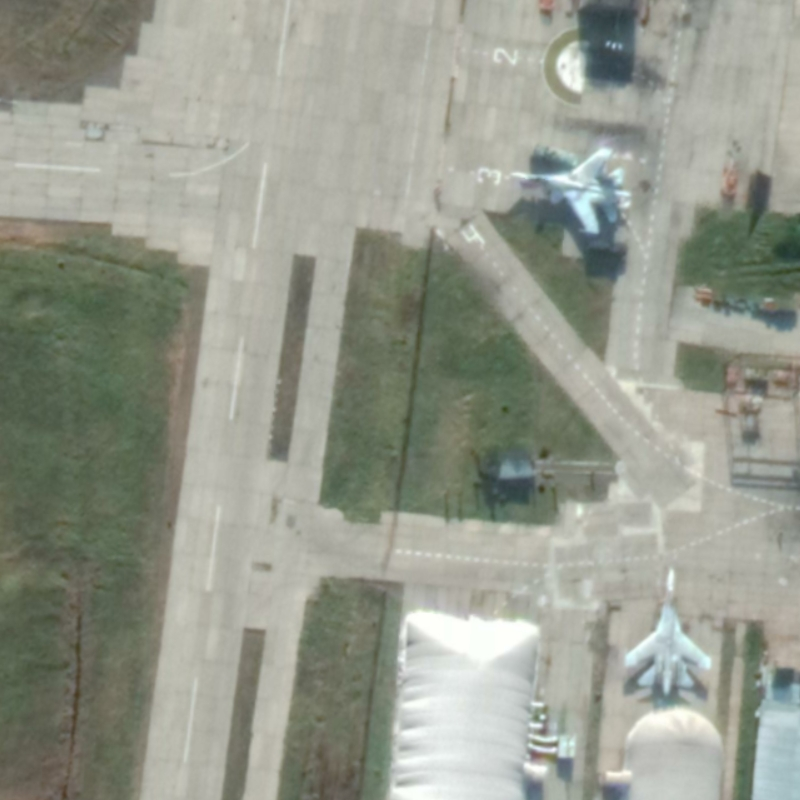A1: (620, 566, 715, 698), (508, 145, 634, 237)
